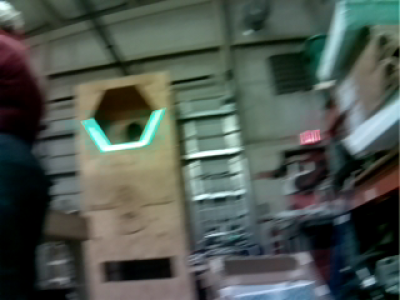target: (82, 107, 165, 152)
